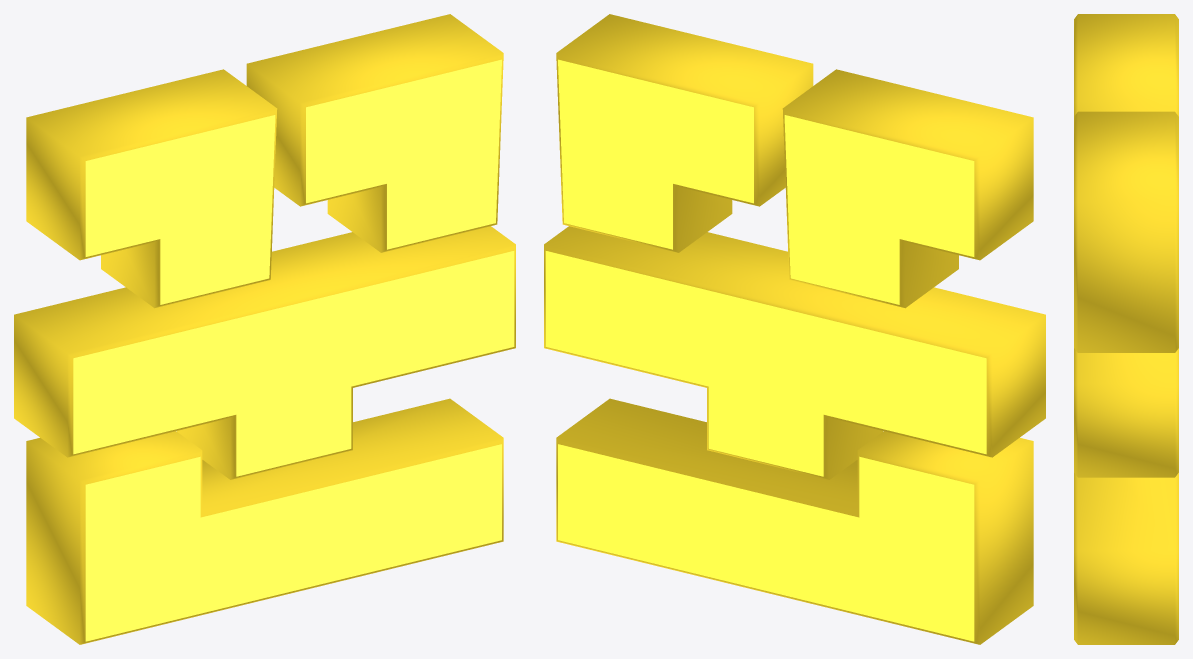
File: u_afbc_y.glb
3 views of the same model, side by side, from view 1: azimuth 30°, elevation 25°; view 2: azimuth 150°, elevation 25°; view 3: azimuth 270°, elevation 25° (orthographic). The views are drawn at different scales.
Visible parts, largest first — view 1: glyph; view 2: glyph; view 3: glyph.
Boxes of the visible parts, bbox=[...] form: glyph: bbox=[14, 14, 515, 644]; glyph: bbox=[544, 14, 1045, 644]; glyph: bbox=[1074, 14, 1178, 644].
Size of the model in its own units: 0.0726 by 0.0756 by 0.0162.
